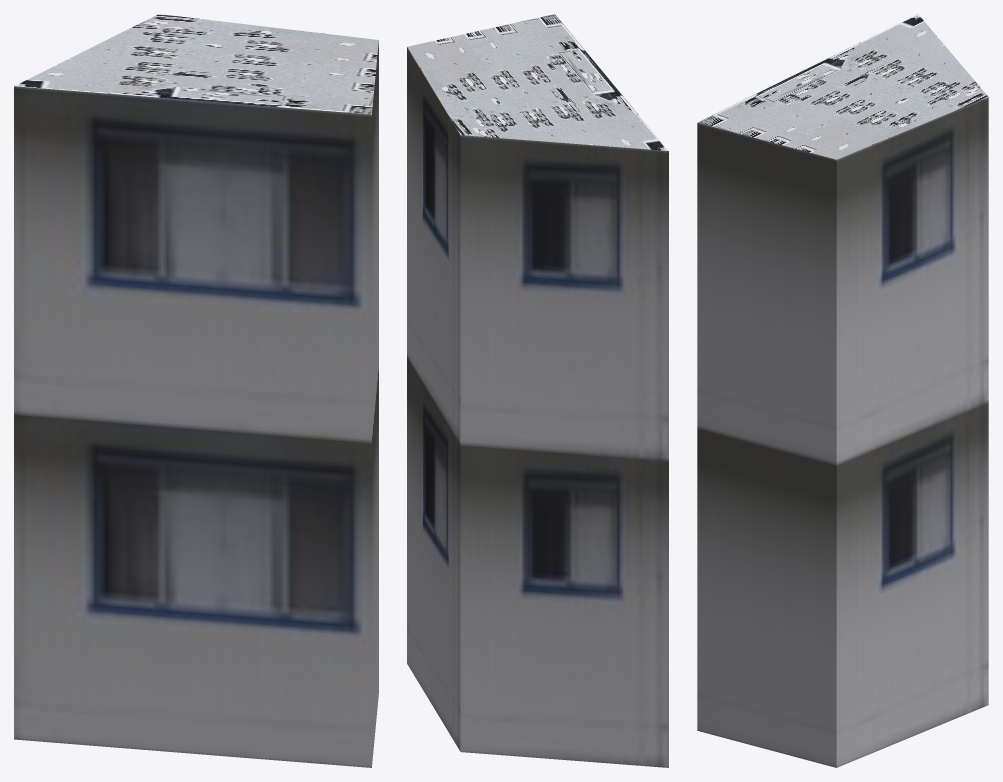
The model's file is ResTex__1461.fbx.
3 renders of one model, left to right at view 1: azimuth 30°, elevation 25°; view 2: azimuth 150°, elevation 25°; view 3: azimuth 270°, elevation 25°, orthographic. The views are drawn at different scales.
Visible parts, largest first — view 1: CityEngineMaterial_9_m, CityEngineMaterial_m; view 2: CityEngineMaterial_9_m, CityEngineMaterial_m; view 3: CityEngineMaterial_9_m, CityEngineMaterial_m.
Boxes of the visible parts, <box> form: CityEngineMaterial_9_m: <box>14,41,378,767</box>; CityEngineMaterial_m: <box>14,14,378,114</box>; CityEngineMaterial_9_m: <box>407,47,668,767</box>; CityEngineMaterial_m: <box>407,14,668,150</box>; CityEngineMaterial_9_m: <box>697,97,988,767</box>; CityEngineMaterial_m: <box>698,14,988,159</box>.
Size of the model in its own units: 3.09 by 6 by 2.6.
2 materials, 2 textured.
